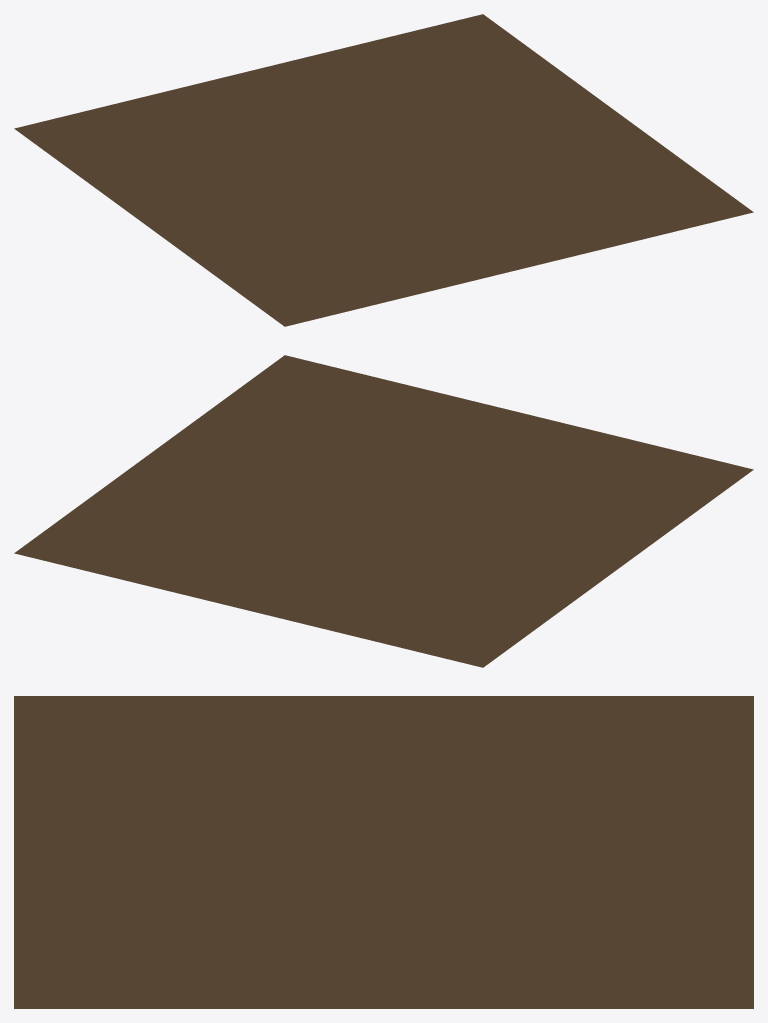
File: dirt1.glb
3 renders of one model, top to bottom at view 1: azimuth 30°, elevation 25°; view 2: azimuth 150°, elevation 25°; view 3: azimuth 270°, elevation 25°, orthographic. The views are drawn at different scales.
Visible parts, largest first — view 1: ground; view 2: ground; view 3: ground.
Boxes of the visible parts, x1,y1,x2,y2 form: ground: (14, 14, 753, 326); ground: (14, 355, 753, 667); ground: (14, 696, 753, 1008).
Size of the model in its own units: 2 by 0 by 2.
